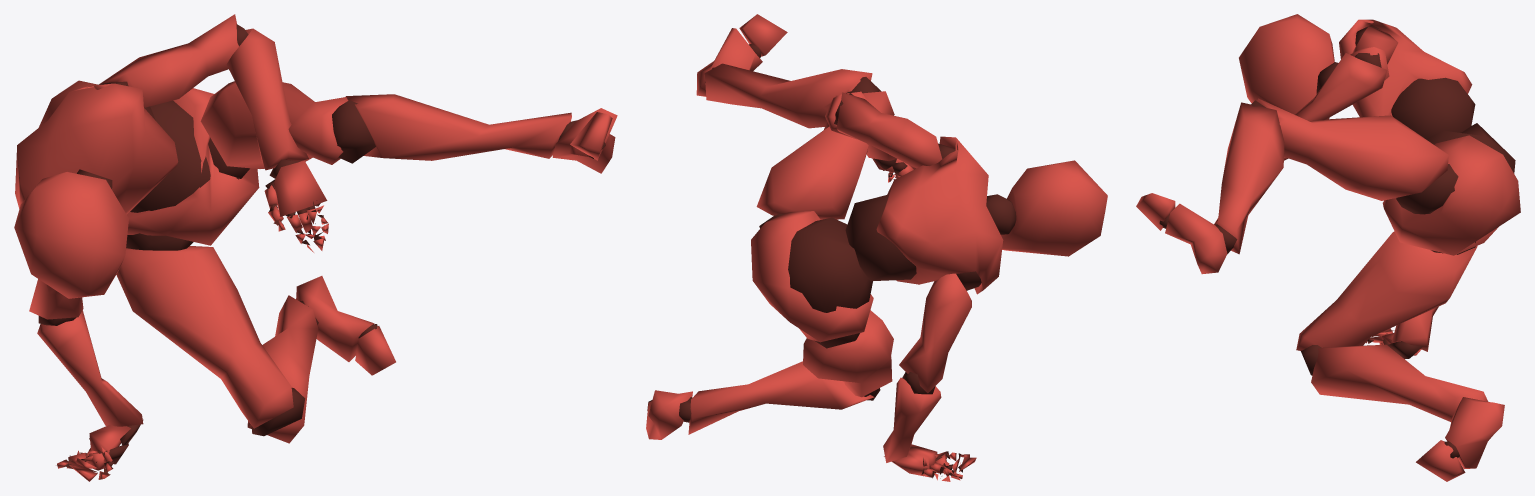
The picture shows the model from 3 angles, left to right: view 1: azimuth 30°, elevation 25°; view 2: azimuth 150°, elevation 25°; view 3: azimuth 270°, elevation 25°; orthographic projection. The views are drawn at different scales.
Visible parts, largest first — view 1: Beta_Surface; view 2: Beta_Surface; view 3: Beta_Surface.
Boxes of the visible parts, bbox=[...] form: Beta_Surface: bbox=[14, 14, 617, 481]; Beta_Surface: bbox=[646, 14, 1107, 481]; Beta_Surface: bbox=[1136, 14, 1520, 481].
Bounding box in the file's own units: 12.11 × 9.34 × 9.01.
